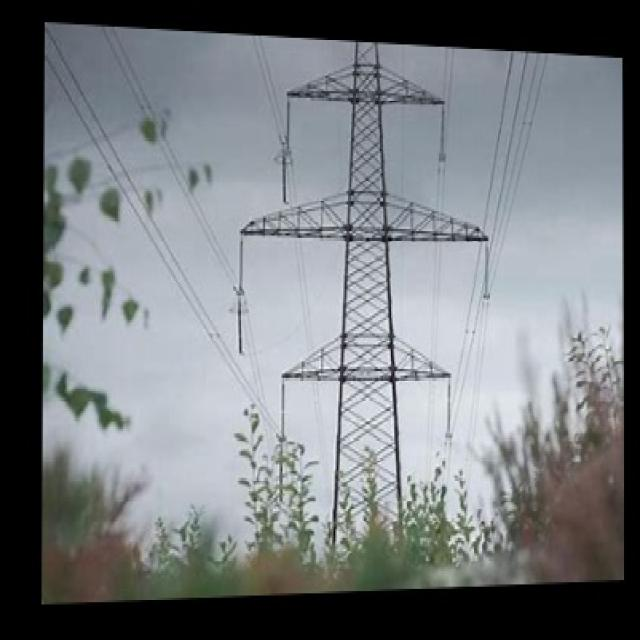utility poles: (212, 306, 520, 580)
